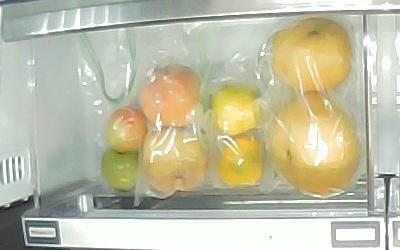peach_vinyl: (142, 128, 208, 195), (139, 64, 201, 129)
pear_vinyl: (272, 95, 361, 196), (274, 18, 353, 92)
tangerine_vinyl: (211, 85, 262, 137), (218, 135, 264, 186)
tomato_vinyl: (106, 107, 150, 155), (102, 149, 139, 192)
